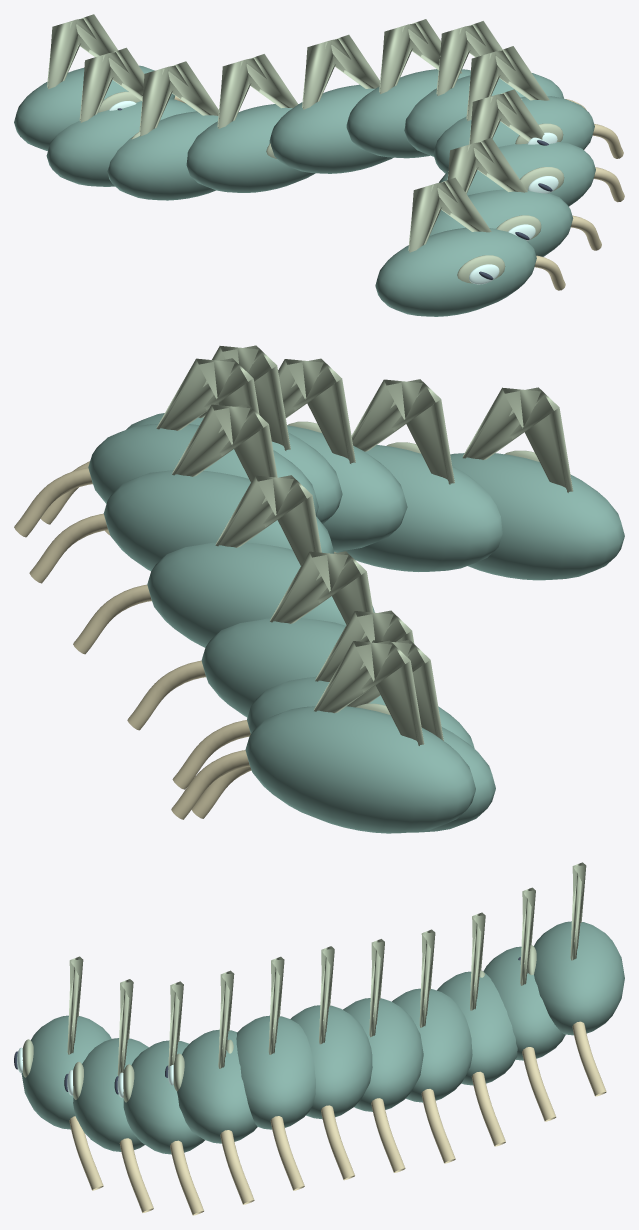
File: bio_ribbon_colony_03_near.glb
3 renders of one model, top to bottom at view 1: azimuth 30°, elevation 25°; view 2: azimuth 150°, elevation 25°; view 3: azimuth 270°, elevation 25°, orthographic. The views are drawn at different scales.
Visible parts, largest first — view 1: Overlapping folded ribbon, Overlapping folded ribbon.007, Overlapping folded ribbon.006, Overlapping folded ribbon.008, Overlapping folded ribbon.009, Overlapping folded ribbon.005, Overlapping folded ribbon.001, Overlapping folded ribbon.010, Overlapping folded ribbon.002, Overlapping folded ribbon.003, Raised pleated edge, Overlapping folded ribbon.004 (+15 smaller); view 2: Overlapping folded ribbon.010, Overlapping folded ribbon, Overlapping folded ribbon.006, Overlapping folded ribbon.001, Overlapping folded ribbon.005, Overlapping folded ribbon.007, Overlapping folded ribbon.002, Overlapping folded ribbon.004, Raised pleated edge, Raised pleated edge.010, Raised pleated edge.001, Raised pleated edge.006 (+17 smaller); view 3: Overlapping folded ribbon.010, Overlapping folded ribbon.004, Overlapping folded ribbon.003, Overlapping folded ribbon.005, Overlapping folded ribbon.006, Overlapping folded ribbon.007, Overlapping folded ribbon, Overlapping folded ribbon.002, Overlapping folded ribbon.001, Overlapping folded ribbon.008, Overlapping folded ribbon.009, Raised pleated edge.003 (+21 smaller).
Part boxes in pixels (x1,y1,x2,y2): Overlapping folded ribbon: [375, 227, 536, 316]; Overlapping folded ribbon.007: [186, 104, 315, 192]; Overlapping folded ribbon.006: [269, 84, 393, 173]; Overlapping folded ribbon.008: [107, 111, 218, 200]; Overlapping folded ribbon.009: [46, 99, 196, 186]; Overlapping folded ribbon.005: [346, 69, 470, 158]; Overlapping folded ribbon.001: [429, 189, 573, 256]; Overlapping folded ribbon.010: [14, 65, 174, 150]; Overlapping folded ribbon.002: [439, 142, 595, 206]; Overlapping folded ribbon.003: [433, 96, 594, 173]; Raised pleated edge: [408, 177, 505, 283]; Overlapping folded ribbon.004: [404, 73, 563, 156]; Overlapping folded ribbon.010: [245, 706, 475, 833]; Overlapping folded ribbon: [450, 453, 624, 580]; Overlapping folded ribbon.006: [147, 542, 374, 647]; Overlapping folded ribbon.001: [334, 445, 502, 571]; Overlapping folded ribbon.005: [103, 470, 334, 570]; Overlapping folded ribbon.007: [201, 618, 345, 717]; Overlapping folded ribbon.002: [287, 425, 407, 550]; Overlapping folded ribbon.004: [88, 424, 318, 515]; Raised pleated edge: [462, 387, 572, 492]; Raised pleated edge.010: [314, 640, 424, 745]; Raised pleated edge.001: [351, 379, 454, 484]; Raised pleated edge.006: [215, 475, 321, 565]; Overlapping folded ribbon.010: [534, 921, 624, 1035]; Overlapping folded ribbon.004: [236, 1015, 315, 1129]; Overlapping folded ribbon.003: [177, 1029, 257, 1143]; Overlapping folded ribbon.005: [290, 1005, 372, 1119]; Overlapping folded ribbon.006: [343, 998, 423, 1111]; Overlapping folded ribbon.007: [392, 988, 472, 1102]; Overlapping folded ribbon: [21, 1015, 111, 1129]; Overlapping folded ribbon.002: [123, 1040, 204, 1154]; Overlapping folded ribbon.001: [73, 1038, 148, 1151]; Overlapping folded ribbon.008: [437, 971, 517, 1085]; Overlapping folded ribbon.009: [483, 946, 565, 1060]; Raised pleated edge.003: [173, 970, 234, 1091].
Size of the model in its own units: 2.82 by 1.23 by 3.04.
